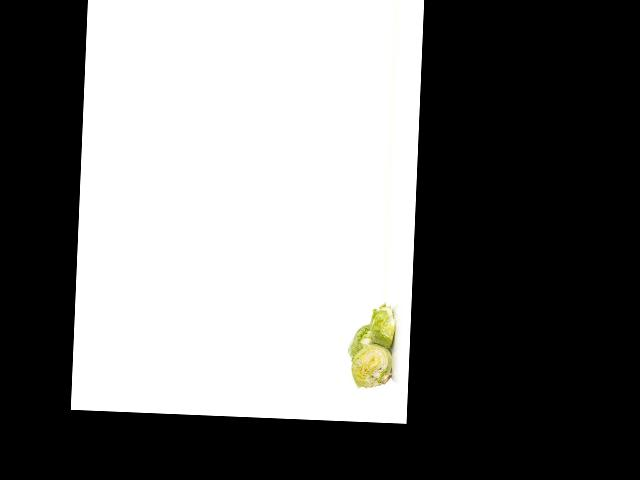lettuce: (346, 319, 378, 367)
